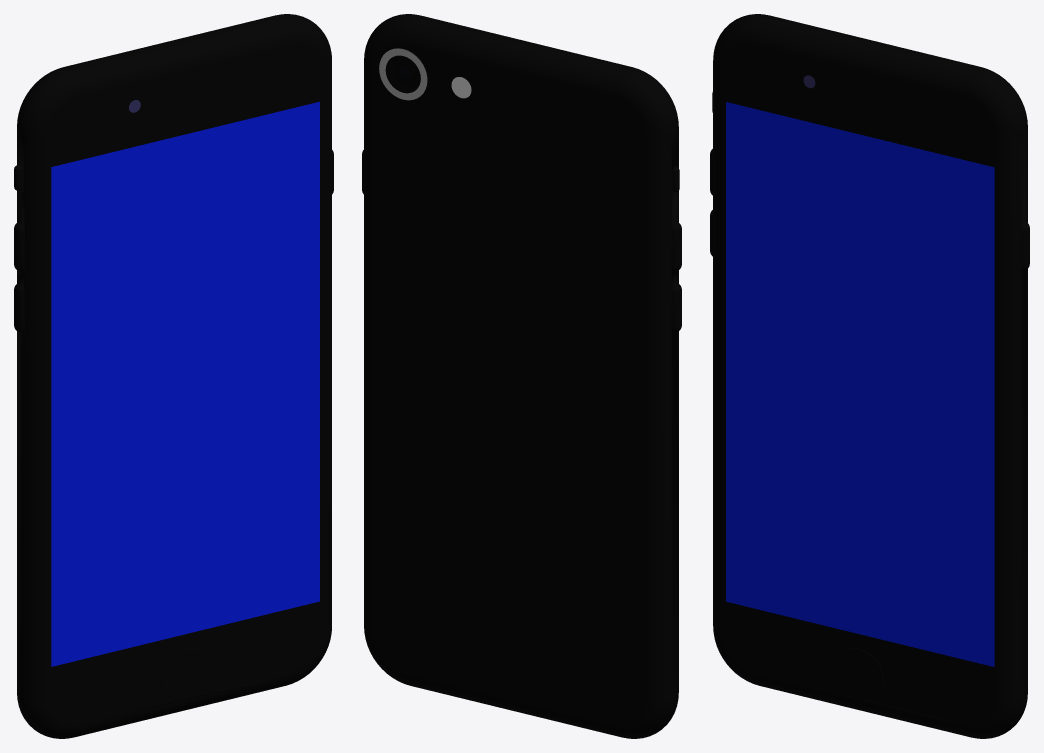
Rendered from iPhoneSE.gltf.
3 views of the same model, side by side, from view 1: azimuth 30°, elevation 25°; view 2: azimuth 150°, elevation 25°; view 3: azimuth 330°, elevation 25° (orthographic).
Parts seen in each view (by area): view 1: phone; view 2: phone; view 3: phone.
Part boxes in pixels (box(x1,y1,x2,y2)): phone: box(14, 14, 333, 738); phone: box(362, 14, 681, 738); phone: box(710, 14, 1029, 738).
Bounding box in the file's own units: 2.49 × 5 × 0.3039.
